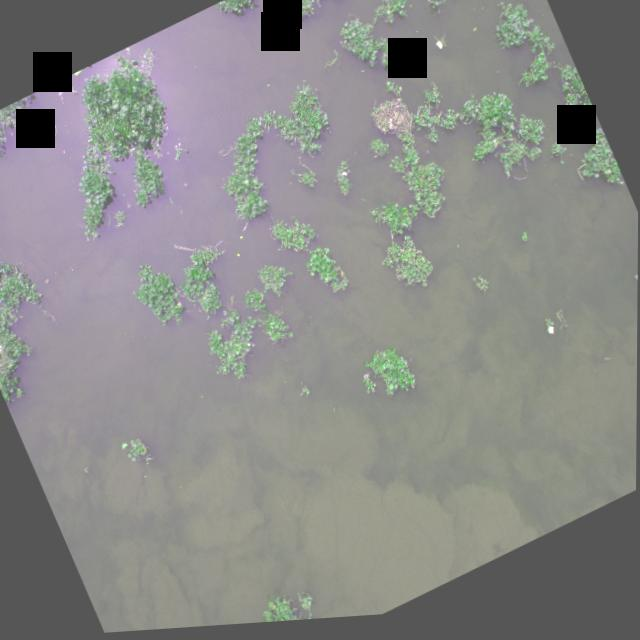plastic: (68, 53, 119, 83), (429, 36, 451, 61), (331, 166, 353, 190), (49, 79, 69, 104), (624, 274, 638, 301), (542, 324, 557, 345), (359, 374, 372, 387), (422, 151, 431, 163), (0, 341, 4, 353)
